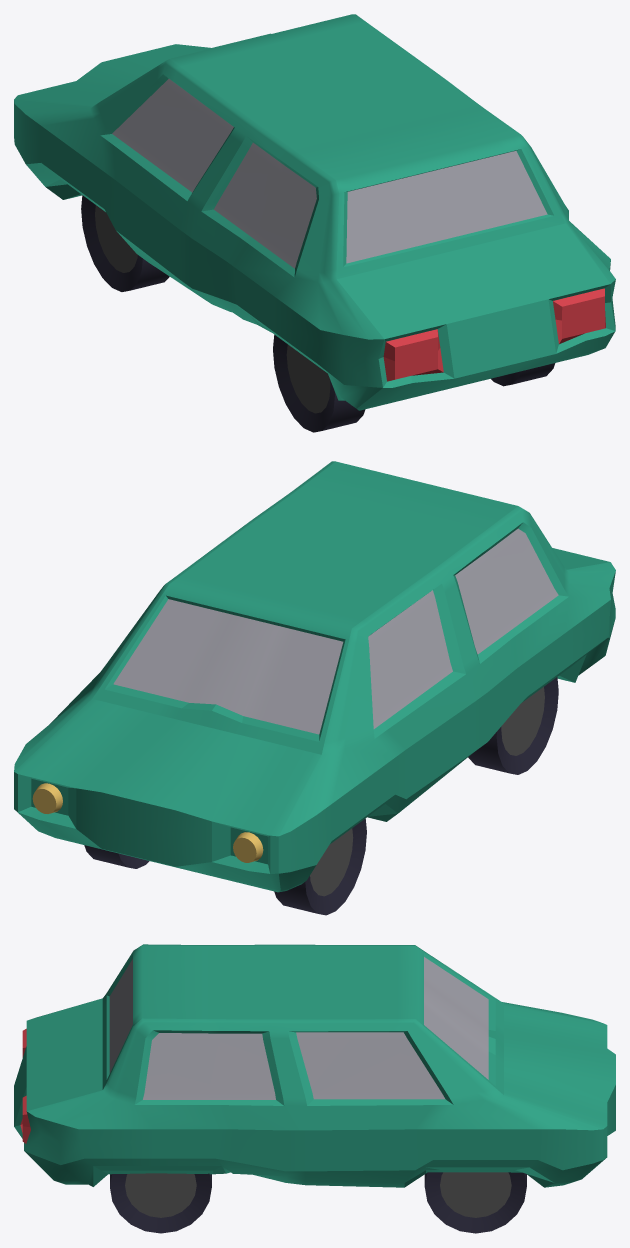
Rendered from GreenCar.fbx.
3 views of the same model, one above another, from view 1: azimuth 30°, elevation 25°; view 2: azimuth 150°, elevation 25°; view 3: azimuth 270°, elevation 25° (orthographic). The views are drawn at different scales.
Parts seen in each view (by area): view 1: pCube2; view 2: pCube2; view 3: pCube2.
Boxes of the visible parts, x1=… form: pCube2: x1=14, y1=14, x2=615, y2=432; pCube2: x1=14, y1=461, x2=615, y2=915; pCube2: x1=14, y1=944, x2=615, y2=1233.
Size of what is drawn, in the model's own units: 9.68 by 7.86 by 20.77.
